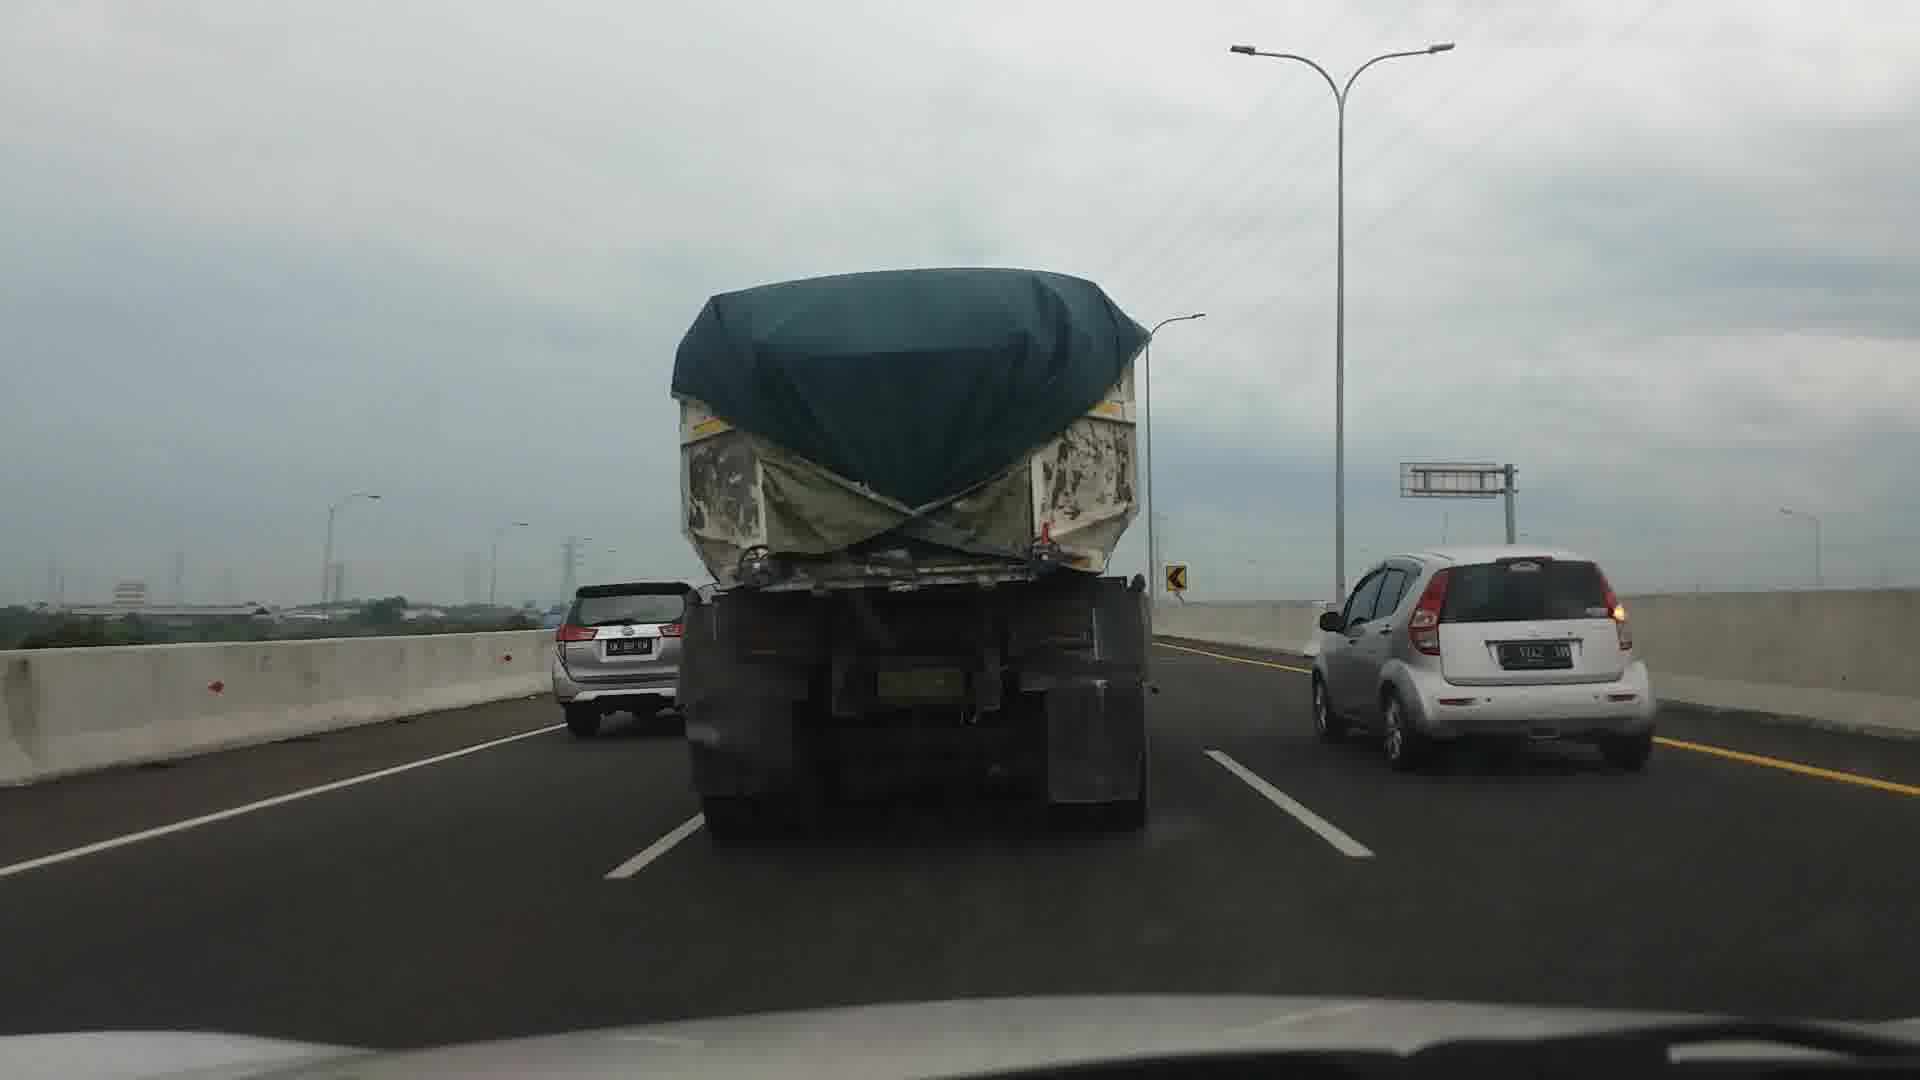plate_positive: (877, 670, 965, 698), (1497, 644, 1575, 669), (607, 638, 651, 655)
